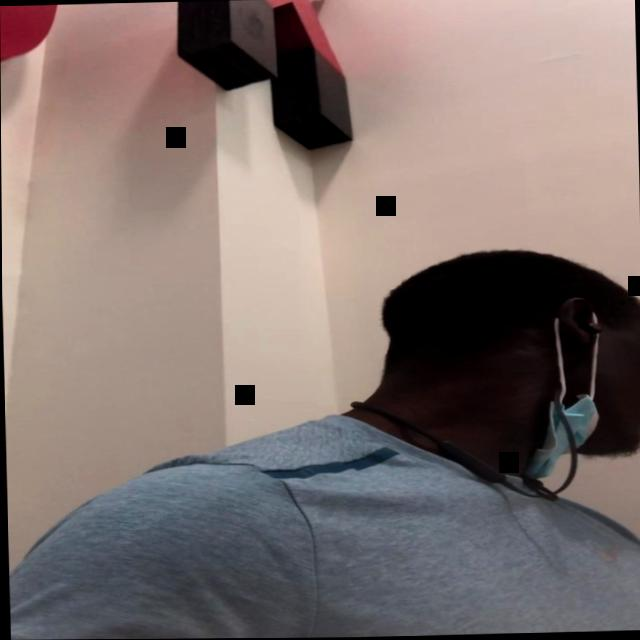NO-Mask: (551, 289, 640, 458)
